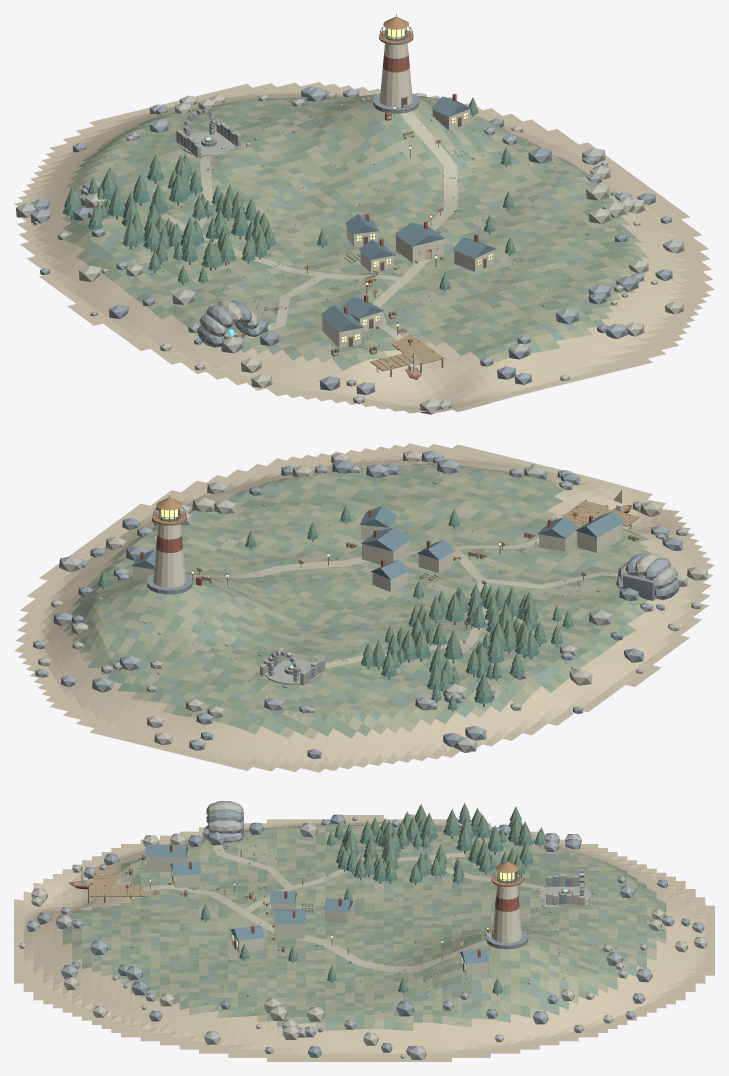
The picture shows the model from 3 angles, top to bottom: view 1: azimuth 30°, elevation 25°; view 2: azimuth 150°, elevation 25°; view 3: azimuth 270°, elevation 25°; orthographic projection. The views are drawn at different scales.
Parts seen in each view (by area): view 1: Oe_terræn, Fyrstien, Fyrets_nedre_kalk, Skovstien, Havnestien, Fyrmesterens_værksted_tag, Kyststien, Ruinens_stengulv, Lagerhus_tag; view 2: Oe_terræn, Fyrets_nedre_kalk, Fyrstien, Lagerhus_mur, Skovstien, Fyrmesterens_værksted_tag, Lagerhus_tag, Kyststien, Ruinens_stengulv, Grottens_bagvaeg, Landhandel_tag, Havnehus_tag; view 3: Oe_terræn, Fyrstien, Fyrets_nedre_kalk, Havnestien, Skovstien, Kyststien, Lagerhus_tag, Fyrmesterens_værksted_tag, Lagerhus_mur, Fyrmesterens_værksted_sidevæg.001, Grottens_hvaelv.001, Ruinens_stengulv.
Part boxes in pixels (x1,y1,x2,y2): Oe_terræn: (14, 82, 714, 413); Fyrstien: (400, 111, 457, 258); Fyrets_nedre_kalk: (379, 67, 412, 106); Skovstien: (161, 214, 400, 280); Havnestien: (372, 259, 429, 340); Fyrmesterens_værksted_tag: (395, 222, 444, 246); Kyststien: (246, 274, 327, 338); Ruinens_stengulv: (180, 131, 234, 156); Lagerhus_tag: (320, 305, 363, 332); Oe_terræn: (14, 443, 714, 772); Fyrets_nedre_kalk: (153, 547, 185, 587); Fyrstien: (189, 557, 369, 578); Lagerhus_mur: (577, 523, 622, 552); Skovstien: (446, 549, 488, 661); Fyrmesterens_værksted_tag: (361, 527, 410, 551); Lagerhus_tag: (575, 511, 624, 537); Kyststien: (481, 572, 643, 588); Ruinens_stengulv: (265, 660, 320, 684); Grottens_bagvaeg: (623, 574, 655, 600); Landhandel_tag: (359, 506, 396, 527); Havnehus_tag: (538, 517, 578, 538); Oe_terræn: (14, 815, 714, 1061); Fyrstien: (297, 935, 488, 972); Fyrets_nedre_kalk: (492, 907, 522, 943); Havnestien: (121, 885, 274, 933); Skovstien: (245, 853, 465, 912); Kyststien: (212, 845, 293, 889); Lagerhus_tag: (144, 844, 188, 858); Fyrmesterens_værksted_tag: (274, 909, 305, 924); Lagerhus_mur: (146, 852, 187, 872); Fyrmesterens_værksted_sidevæg.001: (275, 924, 304, 939); Grottens_hvaelv.001: (206, 820, 243, 833); Ruinens_stengulv: (540, 884, 591, 906).
Bounding box in the file's own units: 180 × 48.24 × 216.
